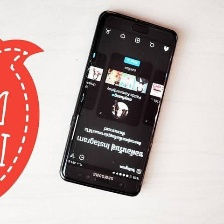phone: (57, 7, 180, 199)
